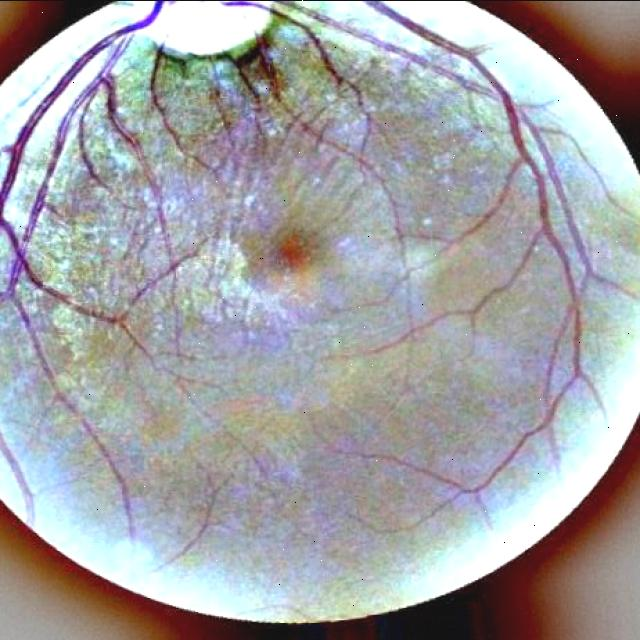Macula: (270, 230, 316, 273)
Nerves: (0, 0, 178, 272), (280, 0, 539, 175), (220, 0, 362, 108), (150, 22, 278, 109)
Optic Disk: (139, 0, 269, 53)
